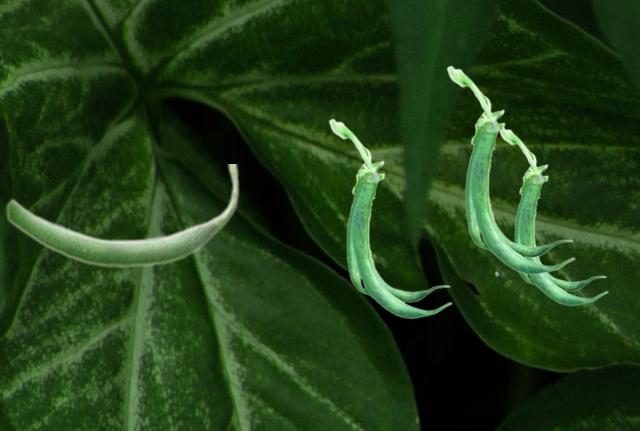french_bean: (446, 65, 574, 274), (328, 118, 451, 318), (5, 164, 239, 268), (498, 127, 607, 305)
